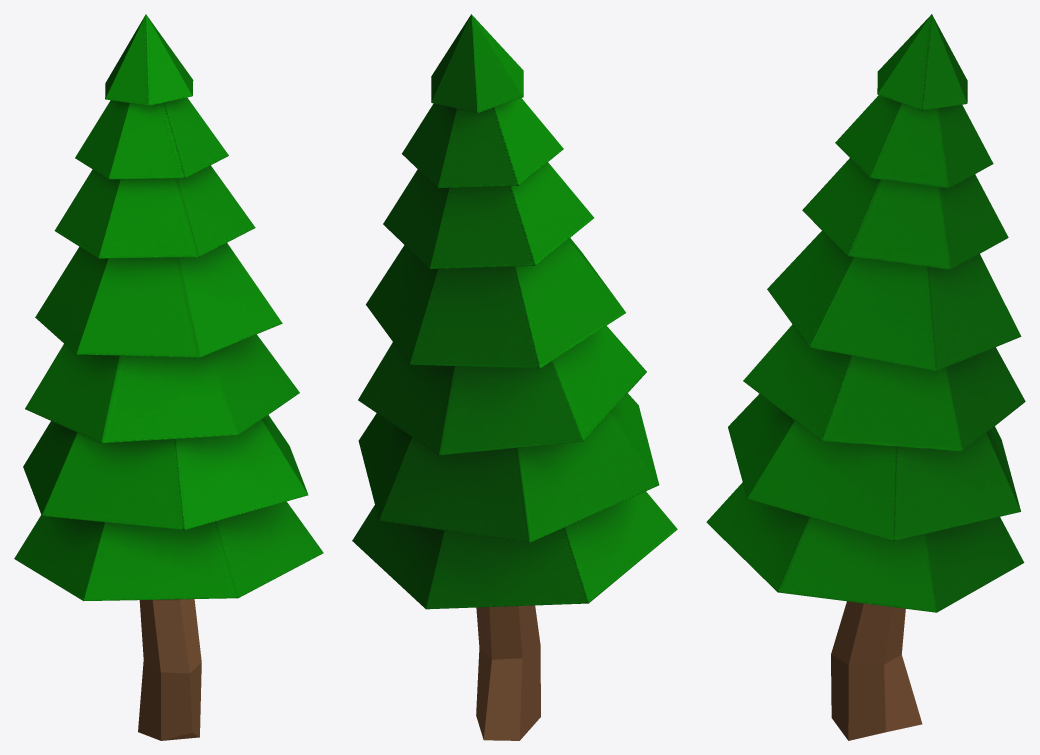
The model's file is tree_pine.glb.
3 views of the same model, side by side, from view 1: azimuth 30°, elevation 25°; view 2: azimuth 150°, elevation 25°; view 3: azimuth 270°, elevation 25° (orthographic). The views are drawn at different scales.
Visible parts, largest first — view 1: Pine-Simplified; view 2: Pine-Simplified; view 3: Pine-Simplified.
Part boxes in pixels (x1=…): Pine-Simplified: x1=14, y1=14, x2=323, y2=740; Pine-Simplified: x1=352, y1=14, x2=677, y2=740; Pine-Simplified: x1=706, y1=14, x2=1025, y2=740.
Size of the model in its own units: 2.51 by 6.28 by 2.52.
Materials: 2 (1 with a texture image).
